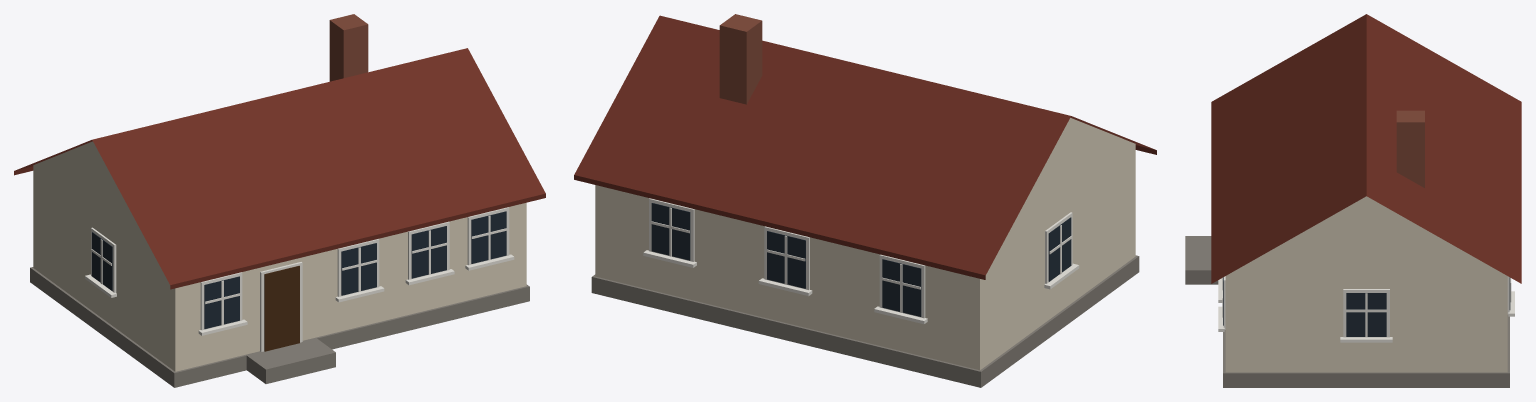
File: house0.glb
3 renders of one model, left to right at view 1: azimuth 30°, elevation 25°; view 2: azimuth 150°, elevation 25°; view 3: azimuth 270°, elevation 25°, orthographic. The views are drawn at different scales.
Visible parts, largest first — view 1: house; view 2: house; view 3: house.
Boxes of the visible parts, box(x1,y1,x2,y2) form: house: box(14, 14, 545, 387); house: box(574, 14, 1156, 387); house: box(1185, 14, 1521, 387).
Bounding box in the file's own units: 10.7 × 6.29 × 8.35.
